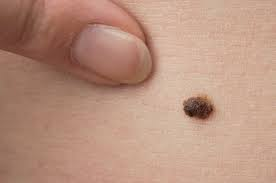tahilalat: (157, 68, 249, 156)
